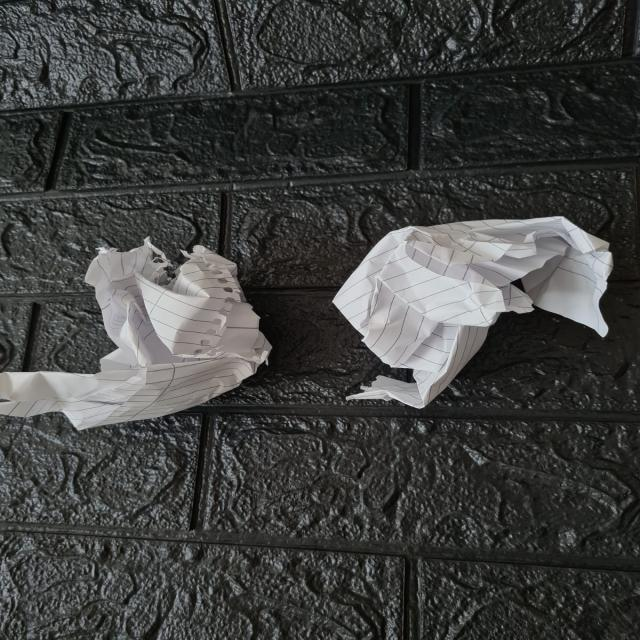Paper: (332, 215, 615, 409), (4, 241, 264, 422)
